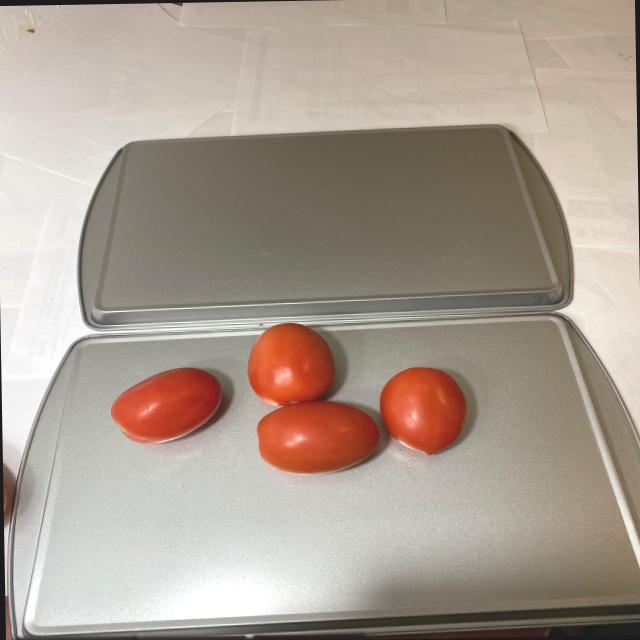tomato: (106, 321, 473, 478)
